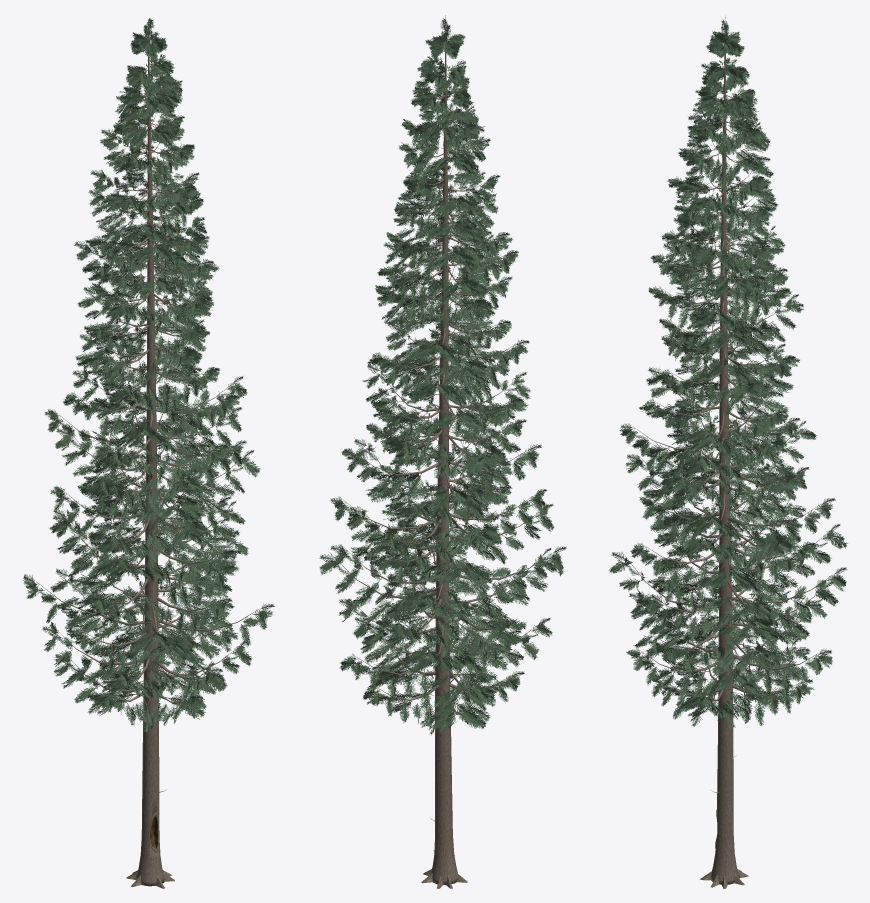
File: SS_Defect_Cavity_Mature_02_LOD0.fbx
The picture shows the model from 3 angles, left to right: view 1: azimuth 30°, elevation 25°; view 2: azimuth 150°, elevation 25°; view 3: azimuth 270°, elevation 25°; orthographic projection.
Parts seen in each view (by area): view 1: SS_Defect_Cavity_Mature_02_LOD0_Foliage, SS_Defect_Cavity_Mature_02_LOD0_Branches, SS_Defect_Cavity_Mature_02_LOD0_Trunk; view 2: SS_Defect_Cavity_Mature_02_LOD0_Foliage, SS_Defect_Cavity_Mature_02_LOD0_Branches, SS_Defect_Cavity_Mature_02_LOD0_Trunk; view 3: SS_Defect_Cavity_Mature_02_LOD0_Foliage, SS_Defect_Cavity_Mature_02_LOD0_Branches, SS_Defect_Cavity_Mature_02_LOD0_Trunk.
Part boxes in pixels (x1,y1,x2,y2): SS_Defect_Cavity_Mature_02_LOD0_Foliage: (23,18,274,733); SS_Defect_Cavity_Mature_02_LOD0_Branches: (31,38,263,813); SS_Defect_Cavity_Mature_02_LOD0_Trunk: (126,20,174,888); SS_Defect_Cavity_Mature_02_LOD0_Foliage: (319,18,566,734); SS_Defect_Cavity_Mature_02_LOD0_Branches: (329,39,557,850); SS_Defect_Cavity_Mature_02_LOD0_Trunk: (421,15,467,888); SS_Defect_Cavity_Mature_02_LOD0_Foliage: (609,19,847,727); SS_Defect_Cavity_Mature_02_LOD0_Branches: (624,41,837,824); SS_Defect_Cavity_Mature_02_LOD0_Trunk: (700,15,748,888).
Size of the model in its own units: 701 by 2600 by 692.
